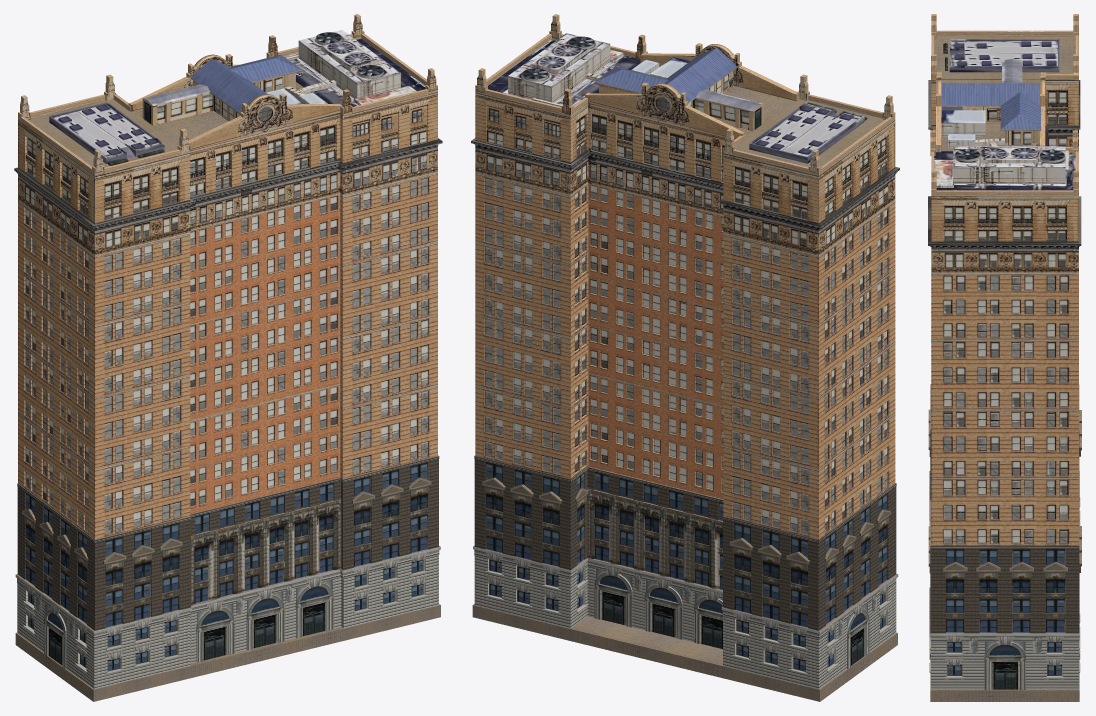
Rendered from whitehall.glb.
The picture shows the model from 3 angles, left to right: view 1: azimuth 30°, elevation 25°; view 2: azimuth 150°, elevation 25°; view 3: azimuth 270°, elevation 25°; orthographic projection. The views are drawn at different scales.
Parts seen in each view (by area): view 1: whitehall; view 2: whitehall; view 3: whitehall.
Boxes of the visible parts, bbox=[...] form: whitehall: bbox=[14, 14, 442, 701]; whitehall: bbox=[471, 14, 899, 701]; whitehall: bbox=[928, 14, 1081, 701].
Size of the model in its own units: 45 by 69 by 17.85.
Materials: 5 (5 with a texture image).
